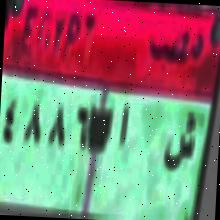4: (0, 94, 18, 147)
6: (73, 101, 92, 154)
8: (18, 93, 44, 155), (46, 103, 67, 158)
alif: (116, 98, 132, 155)
sheen: (160, 108, 200, 178)
